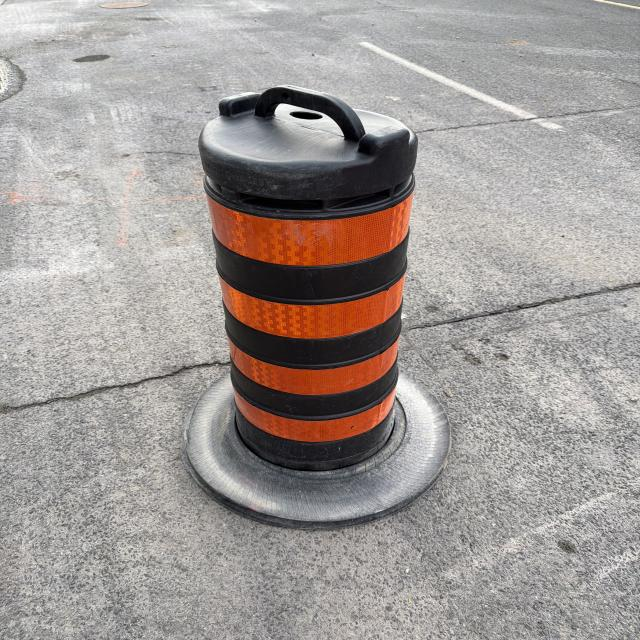Teraffic Barrel: (183, 86, 449, 526)
